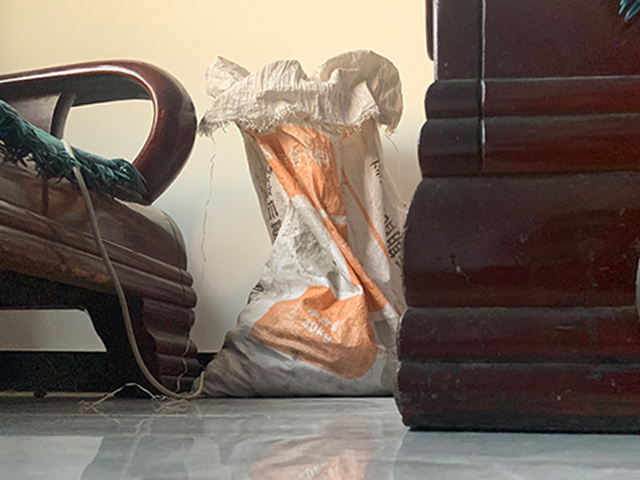sofa: (1, 60, 203, 399)
wire: (61, 138, 204, 401)
